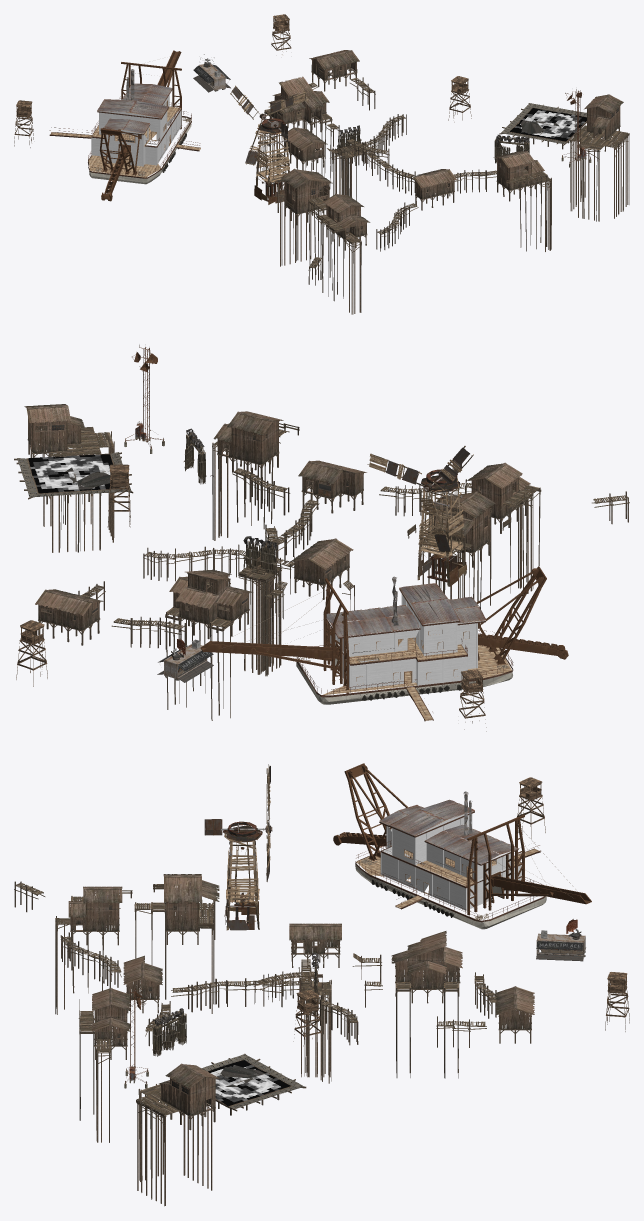
The model's file is bandit_town-map.glb.
The picture shows the model from 3 angles, top to bottom: view 1: azimuth 30°, elevation 25°; view 2: azimuth 150°, elevation 25°; view 3: azimuth 270°, elevation 25°; orthographic projection. The views are drawn at different scales.
Visible parts, largest first — view 1: wooden_cabin_c_LOD0, dredge_body_LOD0, wooden_walkway_large_300_LOD0, windmill_main_LOD0, helipad_tarpaulin_LOD0, watchtower_a_LOD0, gate.wall.wood_LOD0, marketpalce_terminal_LOD0, antena_helipad_base_LOD0; view 2: wooden_cabin_c_LOD0, dredge_body_LOD0, wooden_walkway_large_300_LOD0, windmill_main_LOD0, helipad_tarpaulin_LOD0, watchtower_a_LOD0, gate.wall.wood_LOD0, marketpalce_terminal_LOD0, antena_helipad_base_LOD0; view 3: wooden_cabin_c_LOD0, dredge_body_LOD0, wooden_walkway_large_300_LOD0, windmill_main_LOD0, helipad_tarpaulin_LOD0, watchtower_a_LOD0, gate.wall.wood_LOD0, marketpalce_terminal_LOD0.
Part boxes in pixels (x1,y1,x2,y2): wooden_cabin_c_LOD0: [264, 50, 629, 314]; dredge_body_LOD0: [49, 50, 200, 201]; wooden_walkway_large_300_LOD0: [265, 77, 629, 285]; windmill_main_LOD0: [50, 85, 307, 204]; helipad_tarpaulin_LOD0: [501, 103, 586, 143]; watchtower_a_LOD0: [14, 14, 471, 147]; gate.wall.wood_LOD0: [336, 125, 529, 163]; marketpalce_terminal_LOD0: [193, 54, 230, 92]; antena_helipad_base_LOD0: [561, 89, 591, 167]; wooden_cabin_c_LOD0: [14, 404, 541, 720]; dredge_body_LOD0: [200, 565, 568, 721]; wooden_walkway_large_300_LOD0: [49, 423, 629, 649]; windmill_main_LOD0: [323, 446, 511, 720]; helipad_tarpaulin_LOD0: [17, 452, 131, 497]; watchtower_a_LOD0: [16, 464, 486, 731]; gate.wall.wood_LOD0: [183, 428, 277, 577]; marketpalce_terminal_LOD0: [157, 639, 213, 682]; antena_helipad_base_LOD0: [124, 345, 164, 453]; wooden_cabin_c_LOD0: [55, 874, 534, 1206]; dredge_body_LOD0: [317, 763, 591, 987]; wooden_walkway_large_300_LOD0: [14, 881, 496, 1125]; windmill_main_LOD0: [204, 764, 539, 930]; helipad_tarpaulin_LOD0: [202, 1054, 303, 1108]; watchtower_a_LOD0: [293, 777, 629, 1046]; gate.wall.wood_LOD0: [152, 952, 319, 1056]; marketpalce_terminal_LOD0: [536, 921, 585, 961].
Size of the model in its own units: 131 by 48.43 by 116.
45 materials, 44 textured.
